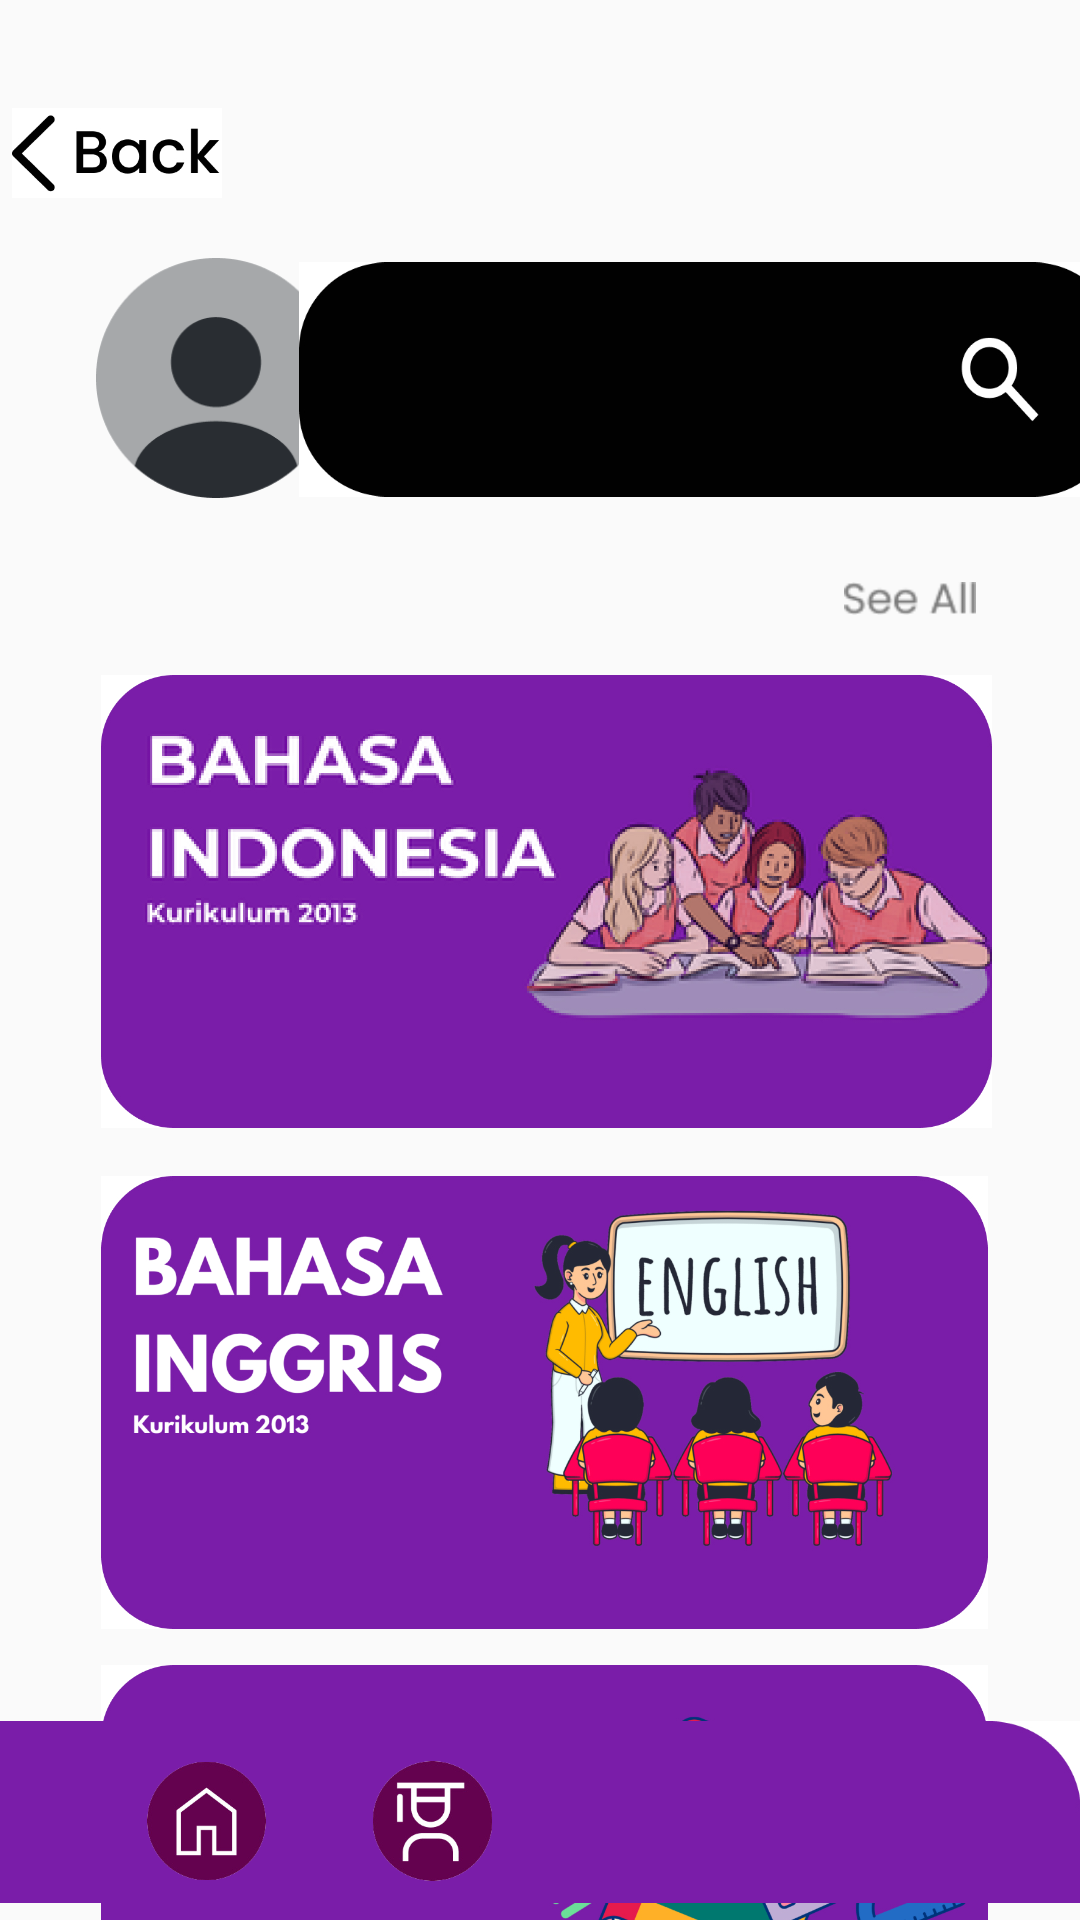

Point at icon controls on the screen. Image size 1080x1920, points as point (x, y).
profile: point (226, 378)
